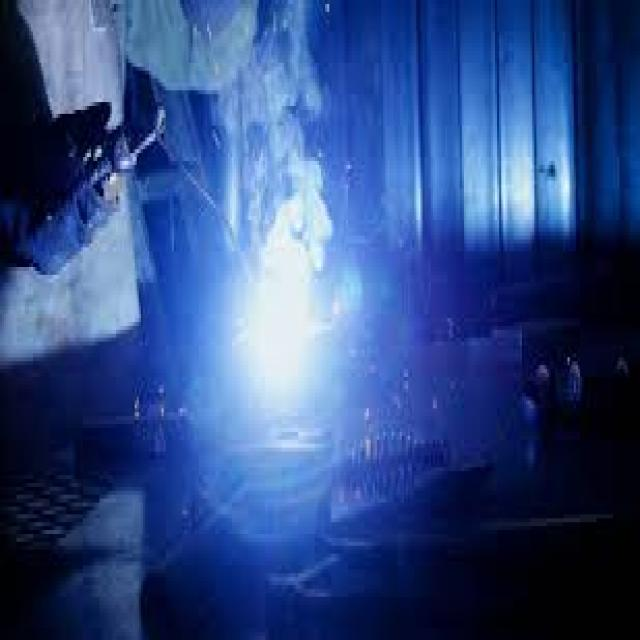welding: (254, 240, 317, 408)
